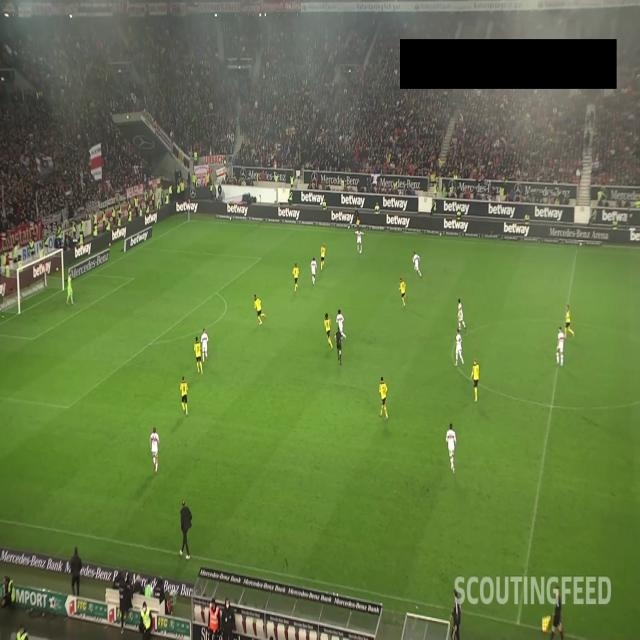ball: (359, 250, 362, 255)
goalkeeper: (66, 272, 74, 305)
player: (445, 422, 457, 473), (150, 426, 160, 474), (470, 357, 480, 402), (379, 376, 388, 420), (194, 335, 203, 376), (556, 326, 565, 366), (564, 304, 574, 340), (455, 329, 464, 367), (324, 312, 333, 349), (180, 376, 188, 416), (336, 308, 346, 339), (254, 294, 264, 325), (200, 328, 209, 362), (458, 298, 467, 331), (354, 226, 364, 253), (412, 251, 422, 278), (398, 276, 406, 307), (310, 256, 318, 284), (292, 262, 299, 293), (320, 241, 326, 270)
referee: (541, 587, 564, 640), (335, 327, 344, 366), (354, 205, 360, 230)
